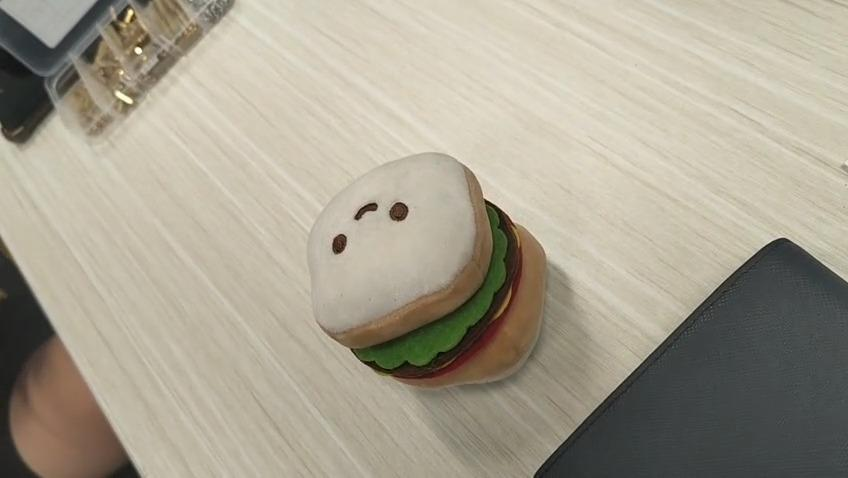objects: (294, 151, 545, 390)
